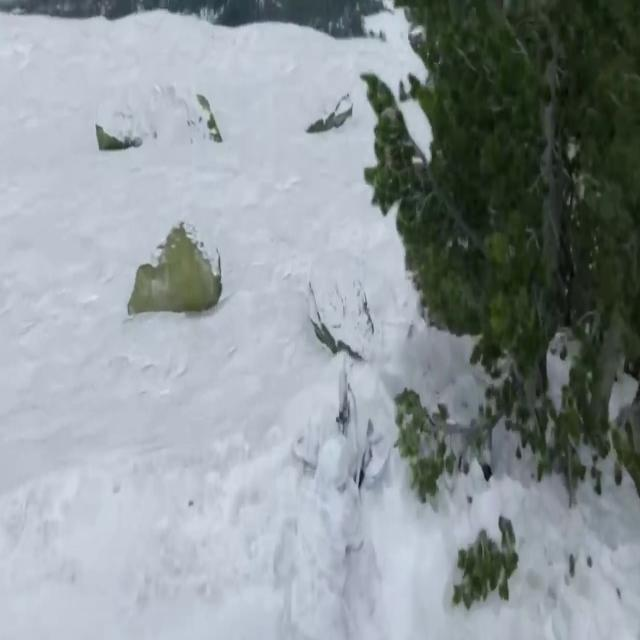Camouflage: (283, 433, 370, 637)
